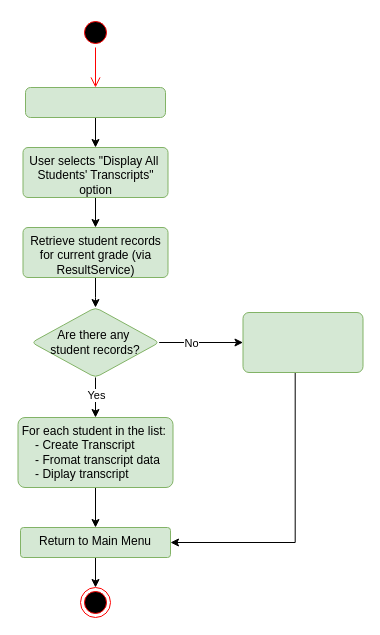
This 380x635 diagram has some shape labels left out. Here are the shapes that lost their labels. From the top down, the centre of each, then its label:
(95,102): Display Main Menu
(302,342): Diplay "No records found!" mesage
